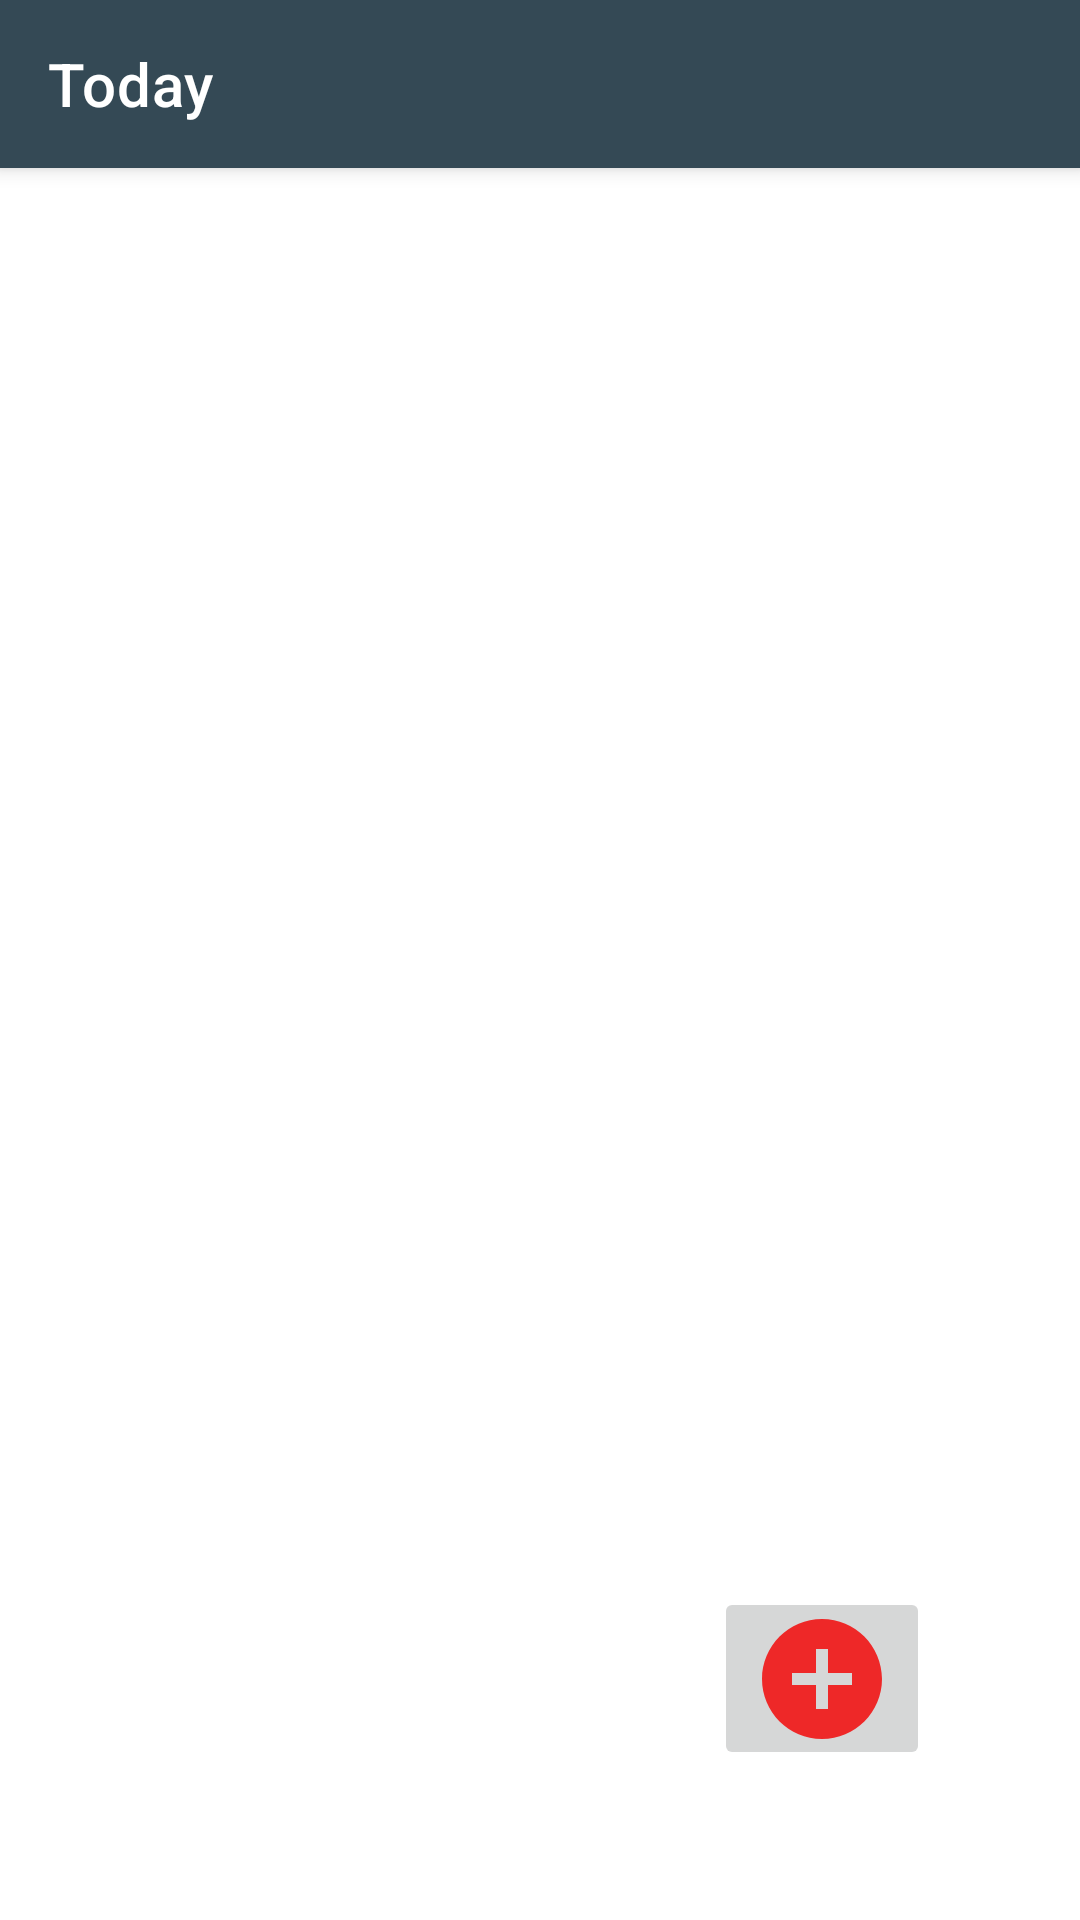

Icons on this 1080 x 1920 Android screen, each with the point to tap as (x,y):
add circle: (822,1678)
